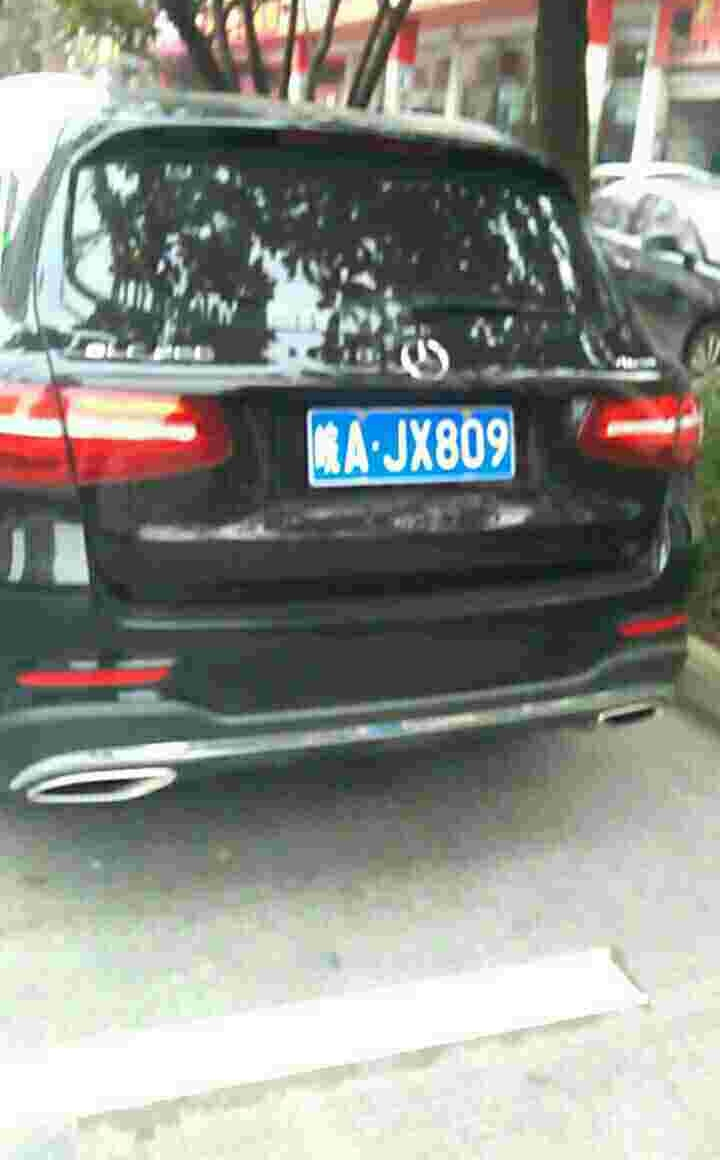license_plate: (301, 406, 516, 486)
